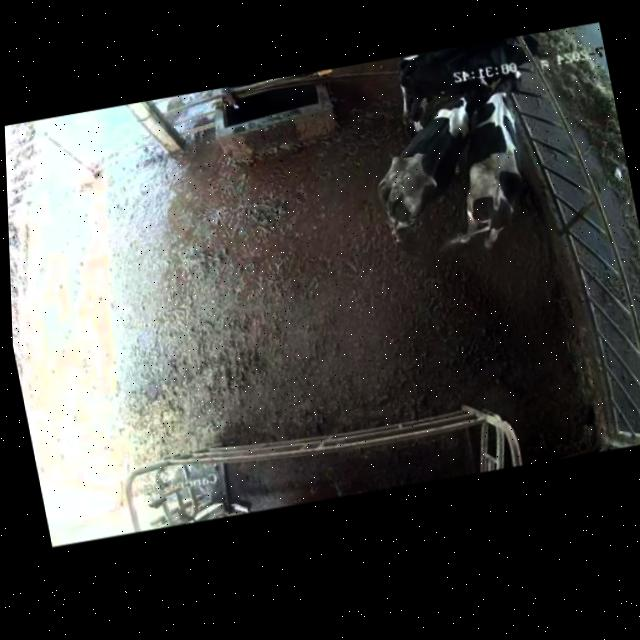eat: (479, 23, 583, 81)
stand: (344, 88, 506, 253), (439, 74, 550, 260)
